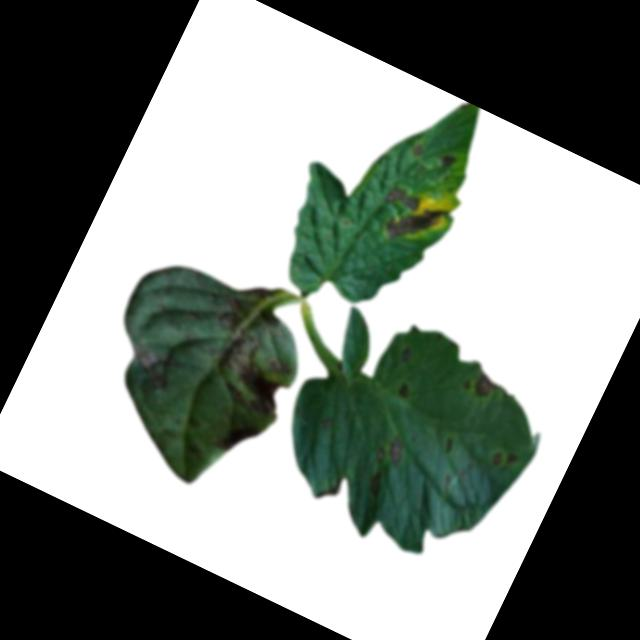Early_blight: (183, 286, 319, 421), (379, 188, 444, 252), (114, 337, 182, 398), (214, 412, 264, 460), (370, 429, 412, 475), (459, 364, 502, 405), (381, 180, 422, 214), (362, 468, 387, 497), (490, 444, 517, 470), (435, 147, 458, 172), (394, 344, 413, 366), (407, 139, 426, 159), (393, 379, 412, 398)
